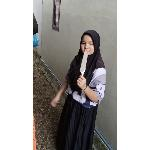Pisau: (78, 47, 91, 82)
